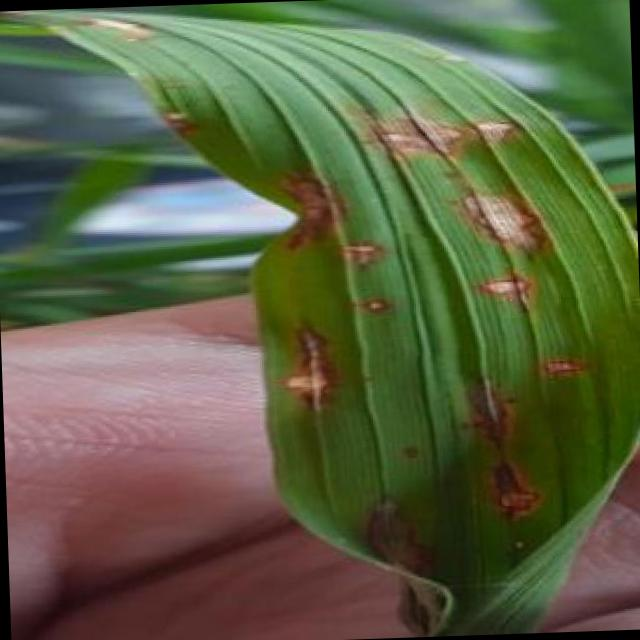Rice_Blast: (452, 175, 564, 286), (352, 486, 448, 612), (246, 150, 350, 260), (346, 96, 475, 176), (266, 306, 351, 424), (438, 362, 516, 453), (459, 76, 528, 170), (474, 455, 556, 533), (458, 250, 544, 311), (527, 329, 602, 390), (72, 8, 162, 56), (156, 76, 213, 144), (352, 280, 418, 332), (341, 230, 388, 266)
